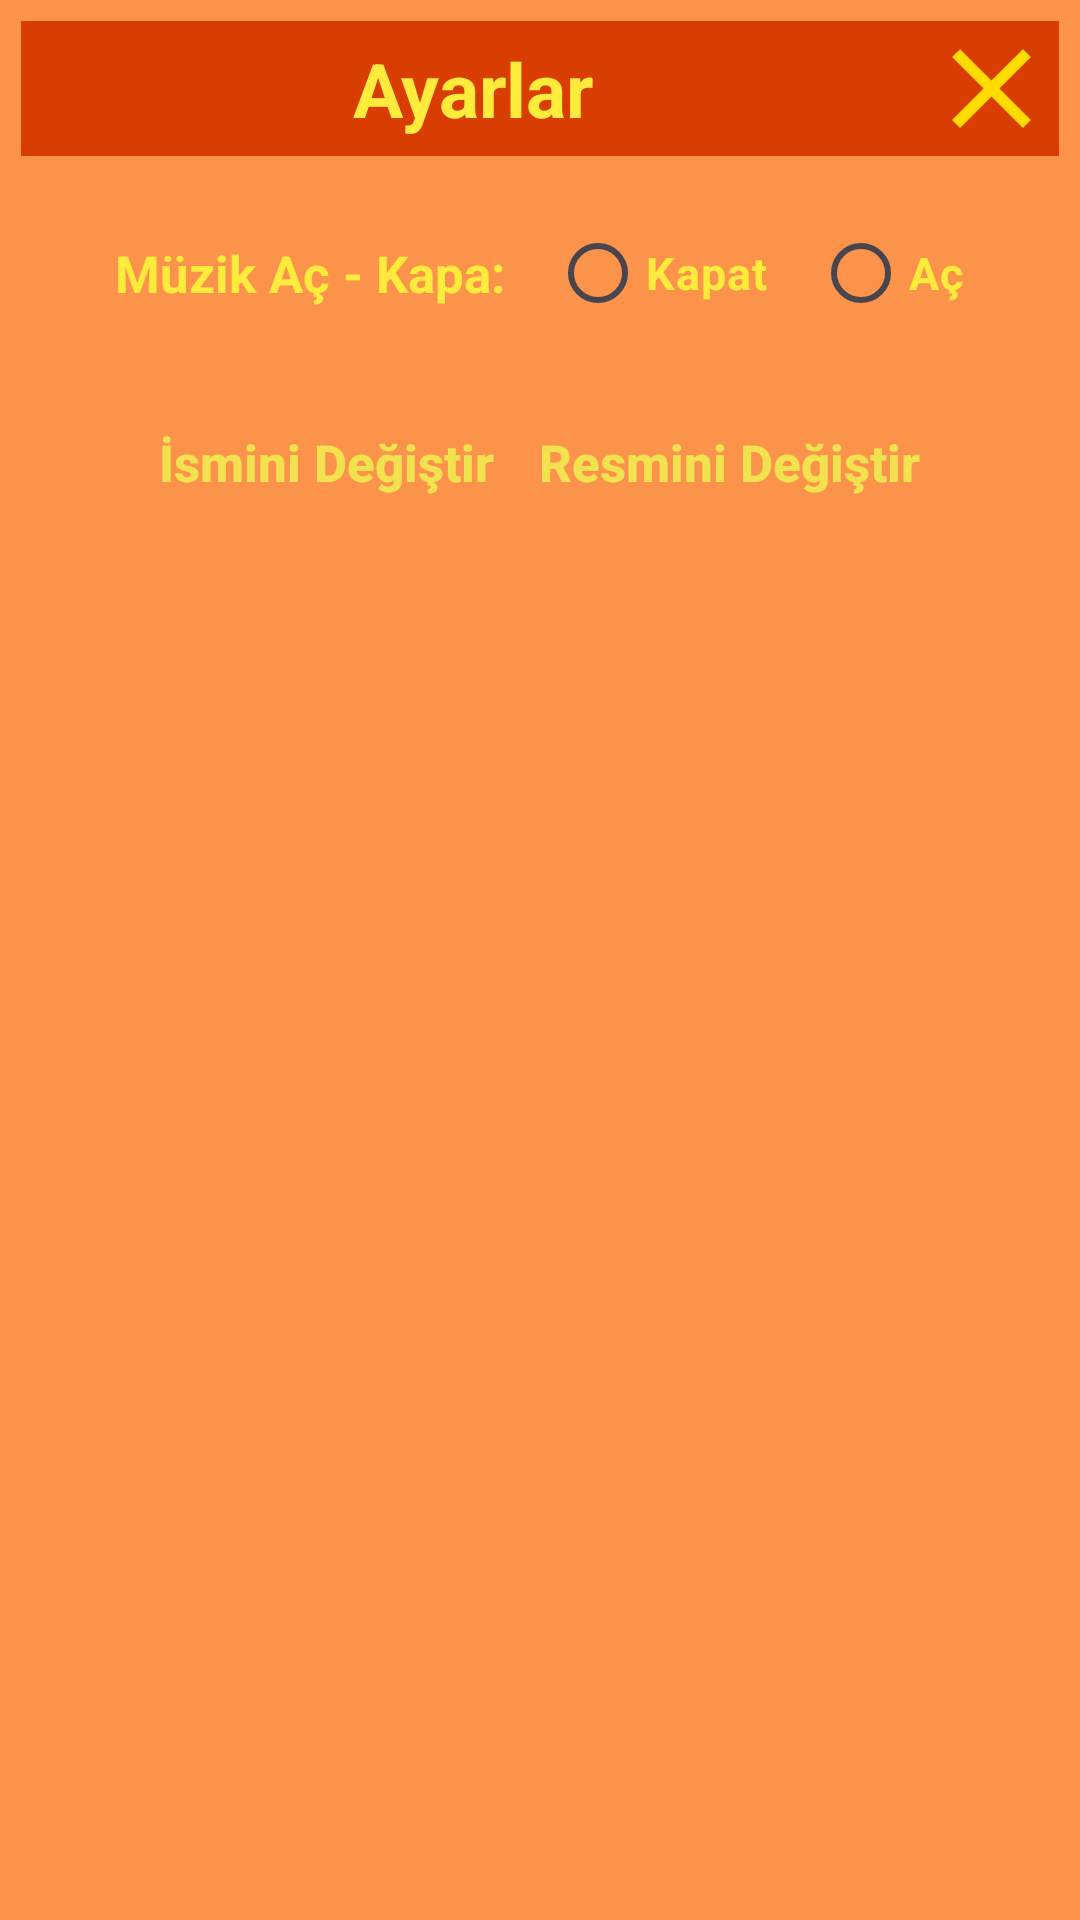

Where icons sit on this 1080*1920 app screen, as bbox(x1, y1, x2, y2):
close: bbox(924, 21, 1059, 156)
